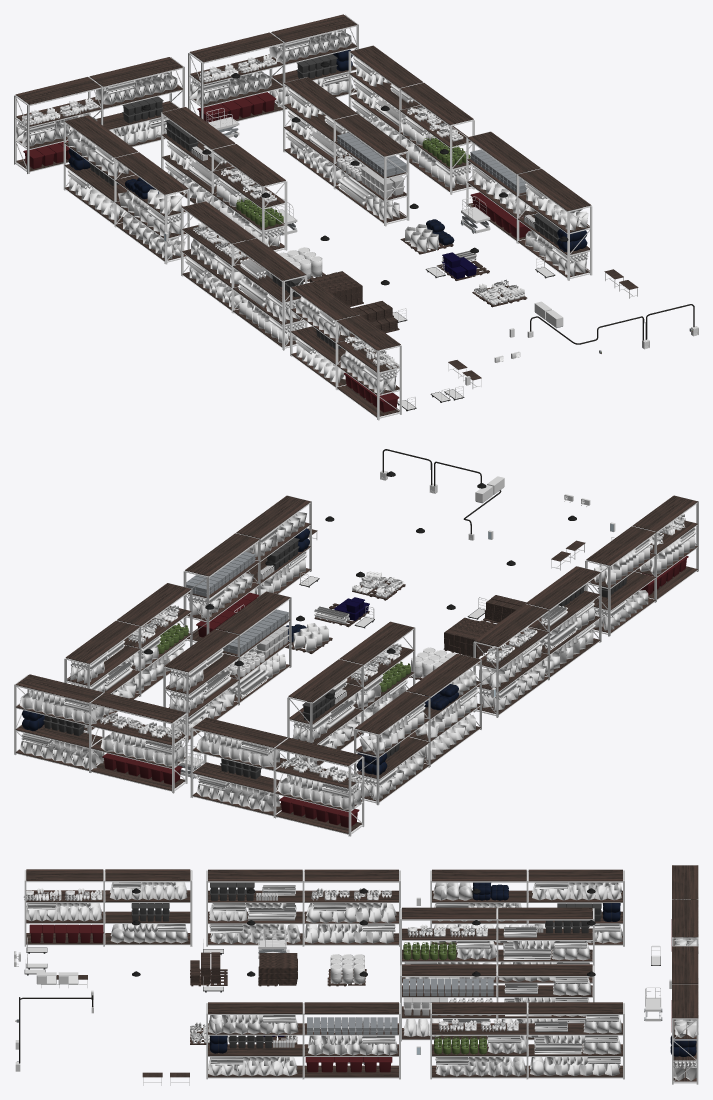
Rendered from Warehouse_Industrial_Props.fbx.
3 views of the same model, one above another, from view 1: azimuth 30°, elevation 25°; view 2: azimuth 150°, elevation 25°; view 3: azimuth 270°, elevation 25° (orthographic). The views are drawn at different scales.
Parts seen in each view (by area): view 1: 07. lemari, 09. kardus, 11. bungkus plastik, 15. box besi, 14. gas, 10. bungkus, 18. ondo, 16. kyu 2, 27. KERETA, 17. box kayu, 13. gentong, 26. meja (+1 smaller); view 2: 07. lemari, 09. kardus, 11. bungkus plastik, 15. box besi, 10. bungkus, 14. gas, 16. kyu 2, 13. gentong, 17. box kayu, 21. lampu; view 3: 07. lemari, 09. kardus, 11. bungkus plastik, 15. box besi, 14. gas, 10. bungkus, 16. kyu 2, 18. ondo, 13. gentong, 17. box kayu, 27. KERETA, 21. lampu (+3 smaller).
Part boxes in pixels (x1,y1,x2,y2): 07. lemari: [14, 14, 592, 420]; 09. kardus: [15, 30, 588, 393]; 11. bungkus plastik: [23, 54, 559, 412]; 15. box besi: [337, 132, 527, 193]; 14. gas: [236, 136, 470, 227]; 10. bungkus: [68, 49, 587, 252]; 18. ondo: [206, 108, 490, 235]; 16. kyu 2: [310, 271, 362, 305]; 27. KERETA: [392, 256, 555, 411]; 17. box kayu: [352, 301, 397, 331]; 13. gentong: [278, 247, 322, 279]; 26. meja: [448, 269, 638, 388]; 07. lemari: [14, 495, 698, 836]; 09. kardus: [19, 512, 696, 811]; 11. bungkus plastik: [43, 537, 688, 827]; 15. box besi: [186, 551, 288, 654]; 10. bungkus: [22, 528, 458, 775]; 14. gas: [157, 623, 410, 691]; 16. kyu 2: [444, 617, 495, 657]; 13. gentong: [411, 647, 455, 678]; 17. box kayu: [484, 595, 528, 622]; 21. lampu: [144, 471, 576, 698]; 07. lemari: [24, 865, 698, 1084]; 09. kardus: [23, 882, 698, 1080]; 11. bungkus plastik: [29, 882, 671, 1072]; 15. box besi: [307, 978, 493, 1034]; 14. gas: [403, 942, 493, 1054]; 10. bungkus: [209, 882, 696, 1056]; 16. kyu 2: [258, 953, 297, 984]; 18. ondo: [258, 930, 662, 1064]; 13. gentong: [330, 954, 364, 983]; 17. box kayu: [190, 952, 220, 983]; 27. KERETA: [24, 937, 660, 992]; 21. lampu: [132, 888, 595, 976].
Size of the model in its own units: 16.51 by 4.34 by 30.73.
